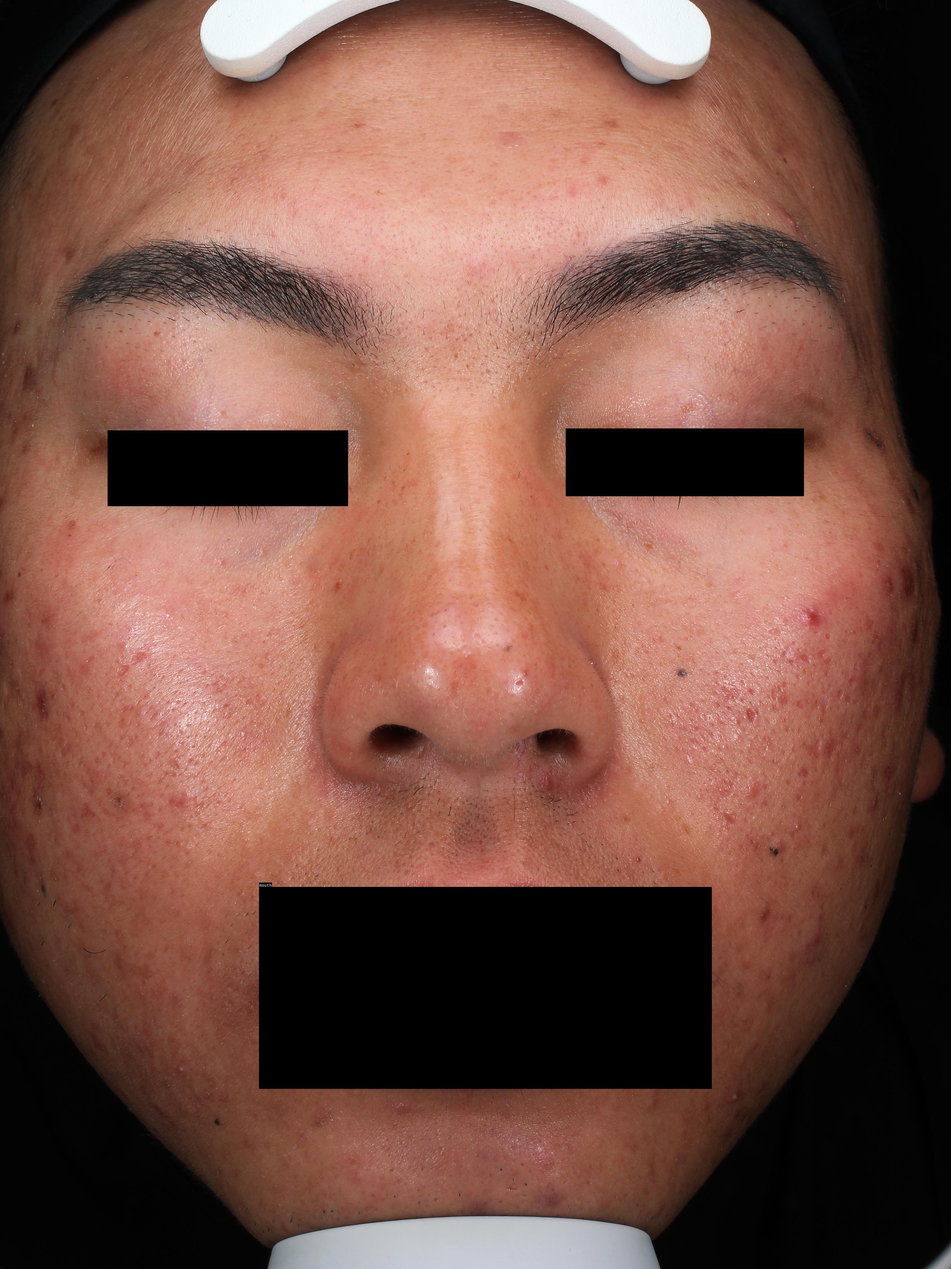atrophic_scar: (165, 789, 205, 819), (771, 682, 793, 712), (18, 365, 37, 395), (209, 673, 236, 694), (34, 688, 50, 722), (24, 831, 39, 867), (802, 737, 823, 760), (822, 737, 840, 762), (781, 641, 797, 667), (78, 800, 97, 821), (719, 686, 741, 702), (880, 724, 891, 755), (129, 651, 149, 667), (474, 172, 498, 185), (63, 248, 78, 265), (58, 740, 72, 758), (56, 711, 72, 725), (115, 664, 132, 677), (458, 164, 477, 175), (165, 759, 182, 771), (821, 843, 832, 861), (815, 647, 829, 661), (795, 697, 810, 710), (799, 653, 814, 666), (746, 707, 756, 726), (839, 728, 849, 747), (547, 174, 561, 187), (765, 627, 783, 637), (122, 735, 134, 750), (450, 680, 459, 699), (10, 319, 20, 336), (441, 324, 454, 337), (547, 188, 560, 201), (723, 812, 736, 824), (120, 704, 135, 714), (798, 766, 810, 778), (496, 188, 514, 196), (451, 351, 460, 367), (820, 700, 828, 717), (121, 683, 136, 692), (847, 674, 857, 686), (748, 686, 758, 697), (513, 678, 525, 687), (747, 652, 759, 661), (488, 197, 498, 207), (837, 687, 844, 700), (244, 697, 254, 706), (488, 161, 500, 168), (504, 1187, 519, 1192), (199, 822, 209, 829), (795, 793, 803, 801), (86, 655, 95, 662), (388, 1166, 397, 1173), (353, 123, 365, 128), (853, 662, 859, 672), (257, 662, 265, 669), (584, 1179, 592, 1186), (113, 691, 120, 699), (222, 702, 229, 709), (79, 708, 85, 715)
closed_comedo: (121, 642, 129, 650), (238, 891, 245, 897), (735, 735, 740, 740), (722, 745, 726, 750)
melasma: (594, 579, 626, 596), (360, 536, 377, 554), (513, 588, 529, 603), (811, 492, 829, 503), (754, 489, 771, 500), (332, 580, 344, 594), (66, 518, 78, 530), (501, 534, 515, 544), (398, 485, 405, 502), (349, 548, 356, 561), (525, 559, 531, 572), (391, 498, 399, 507), (153, 330, 162, 338), (221, 409, 228, 418), (823, 518, 831, 524), (544, 564, 550, 572), (376, 498, 382, 505), (766, 526, 773, 532), (391, 480, 396, 488), (601, 562, 607, 568), (596, 607, 602, 613), (421, 528, 426, 535), (596, 537, 601, 542), (372, 543, 376, 549), (383, 475, 386, 482), (17, 572, 21, 577), (631, 602, 635, 607), (405, 452, 411, 455), (367, 550, 370, 556), (402, 468, 406, 472), (378, 535, 382, 539), (41, 567, 44, 572), (68, 532, 71, 537)
nevus: (676, 667, 691, 679), (41, 882, 49, 902), (502, 642, 512, 653), (770, 847, 781, 855), (213, 1117, 221, 1126), (783, 158, 789, 165)
open_comedo: (441, 622, 450, 630), (779, 804, 786, 810)
papule: (805, 926, 824, 950), (777, 209, 797, 230), (391, 1097, 413, 1114), (542, 774, 556, 792), (801, 611, 818, 625), (745, 783, 758, 796), (645, 1097, 658, 1109), (870, 795, 881, 809), (885, 578, 894, 591), (655, 1206, 663, 1218), (469, 262, 479, 271), (354, 1172, 364, 1181), (218, 559, 225, 565)
pustule: (723, 1086, 743, 1106), (176, 1063, 186, 1074), (794, 822, 803, 830), (476, 724, 485, 732), (697, 794, 703, 800)
